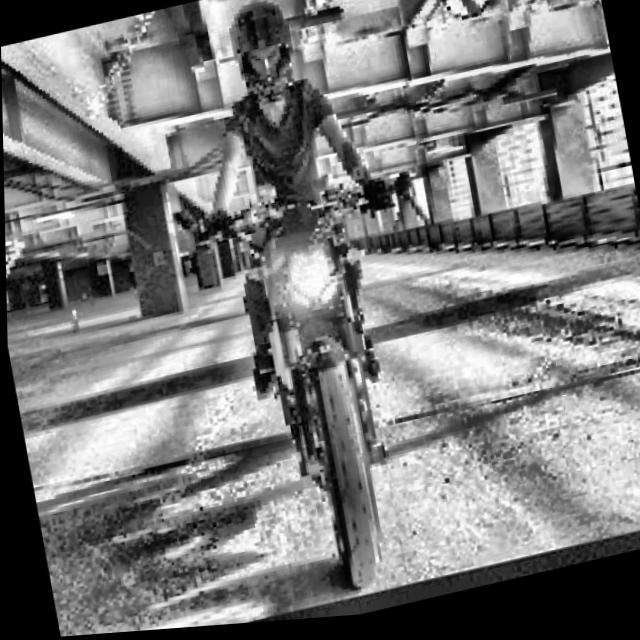motorcycle: (177, 134, 486, 616)
